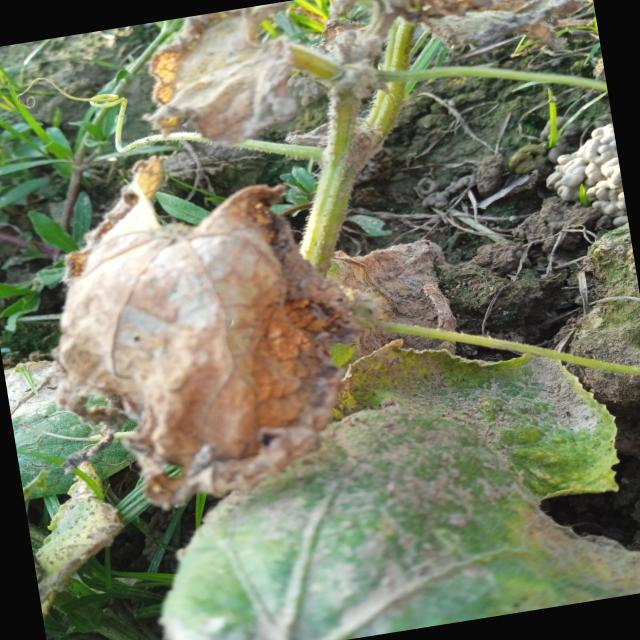cucumber_bacterial: (144, 274, 640, 640), (0, 163, 374, 483), (45, 0, 390, 171)
